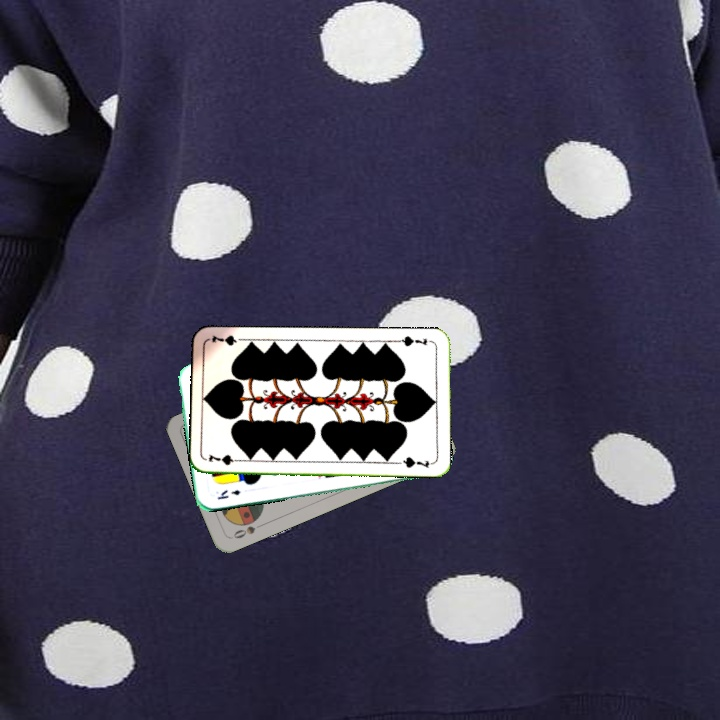EK: (213, 485, 243, 502)
G7: (394, 332, 435, 349), (205, 451, 245, 468)
SO: (227, 520, 266, 541)
